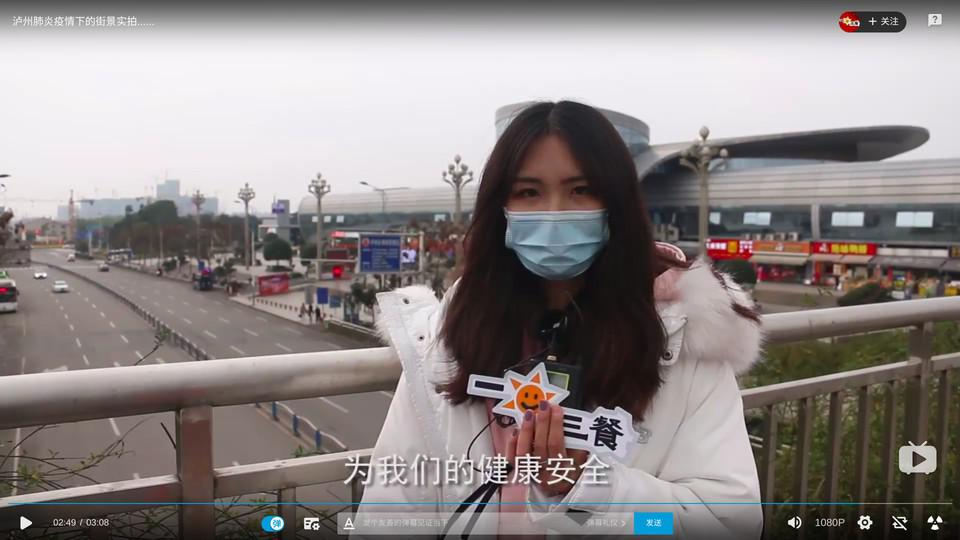OK: (505, 152, 612, 281)
